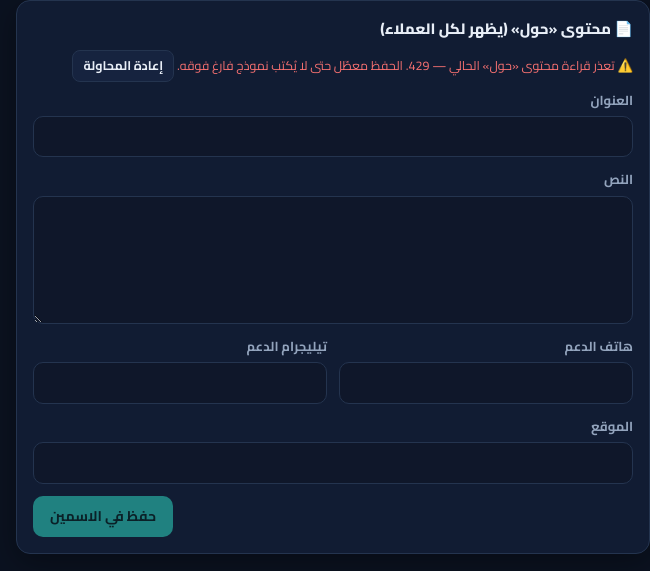
it: «حول» › فشل قراءة «حول» → الحفظ معطّل مع تنبيه (لا يُكتب نموذج فارغ فوق المحتوى عند كل العملاء)
Expected: the text "تعذر قراءة محتوى «حول» الحالي" is shown, left=430, top=54, right=633, bottom=77
Expected: the button "حفظ في الاسمين" is disabled, left=33, top=496, right=173, bottom=537
Click the button "إعادة المحاولة": (123, 66) left=72, top=50, right=174, bottom=82
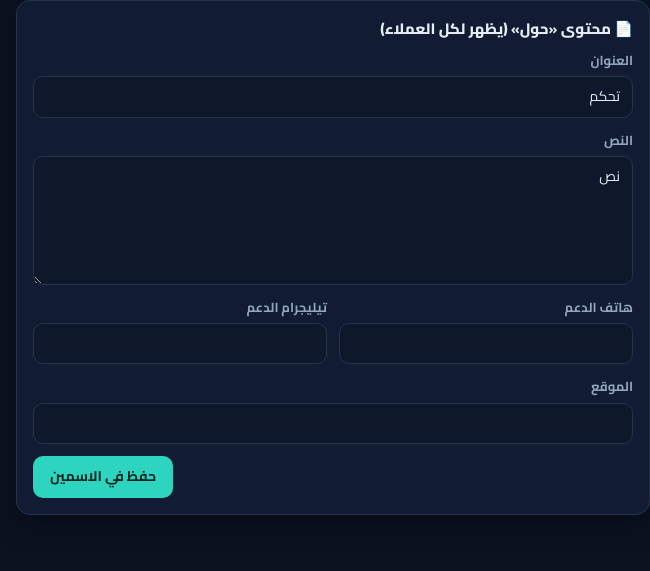
Expected: the button "حفظ في الاسمين" is enabled, left=33, top=456, right=173, bottom=498
